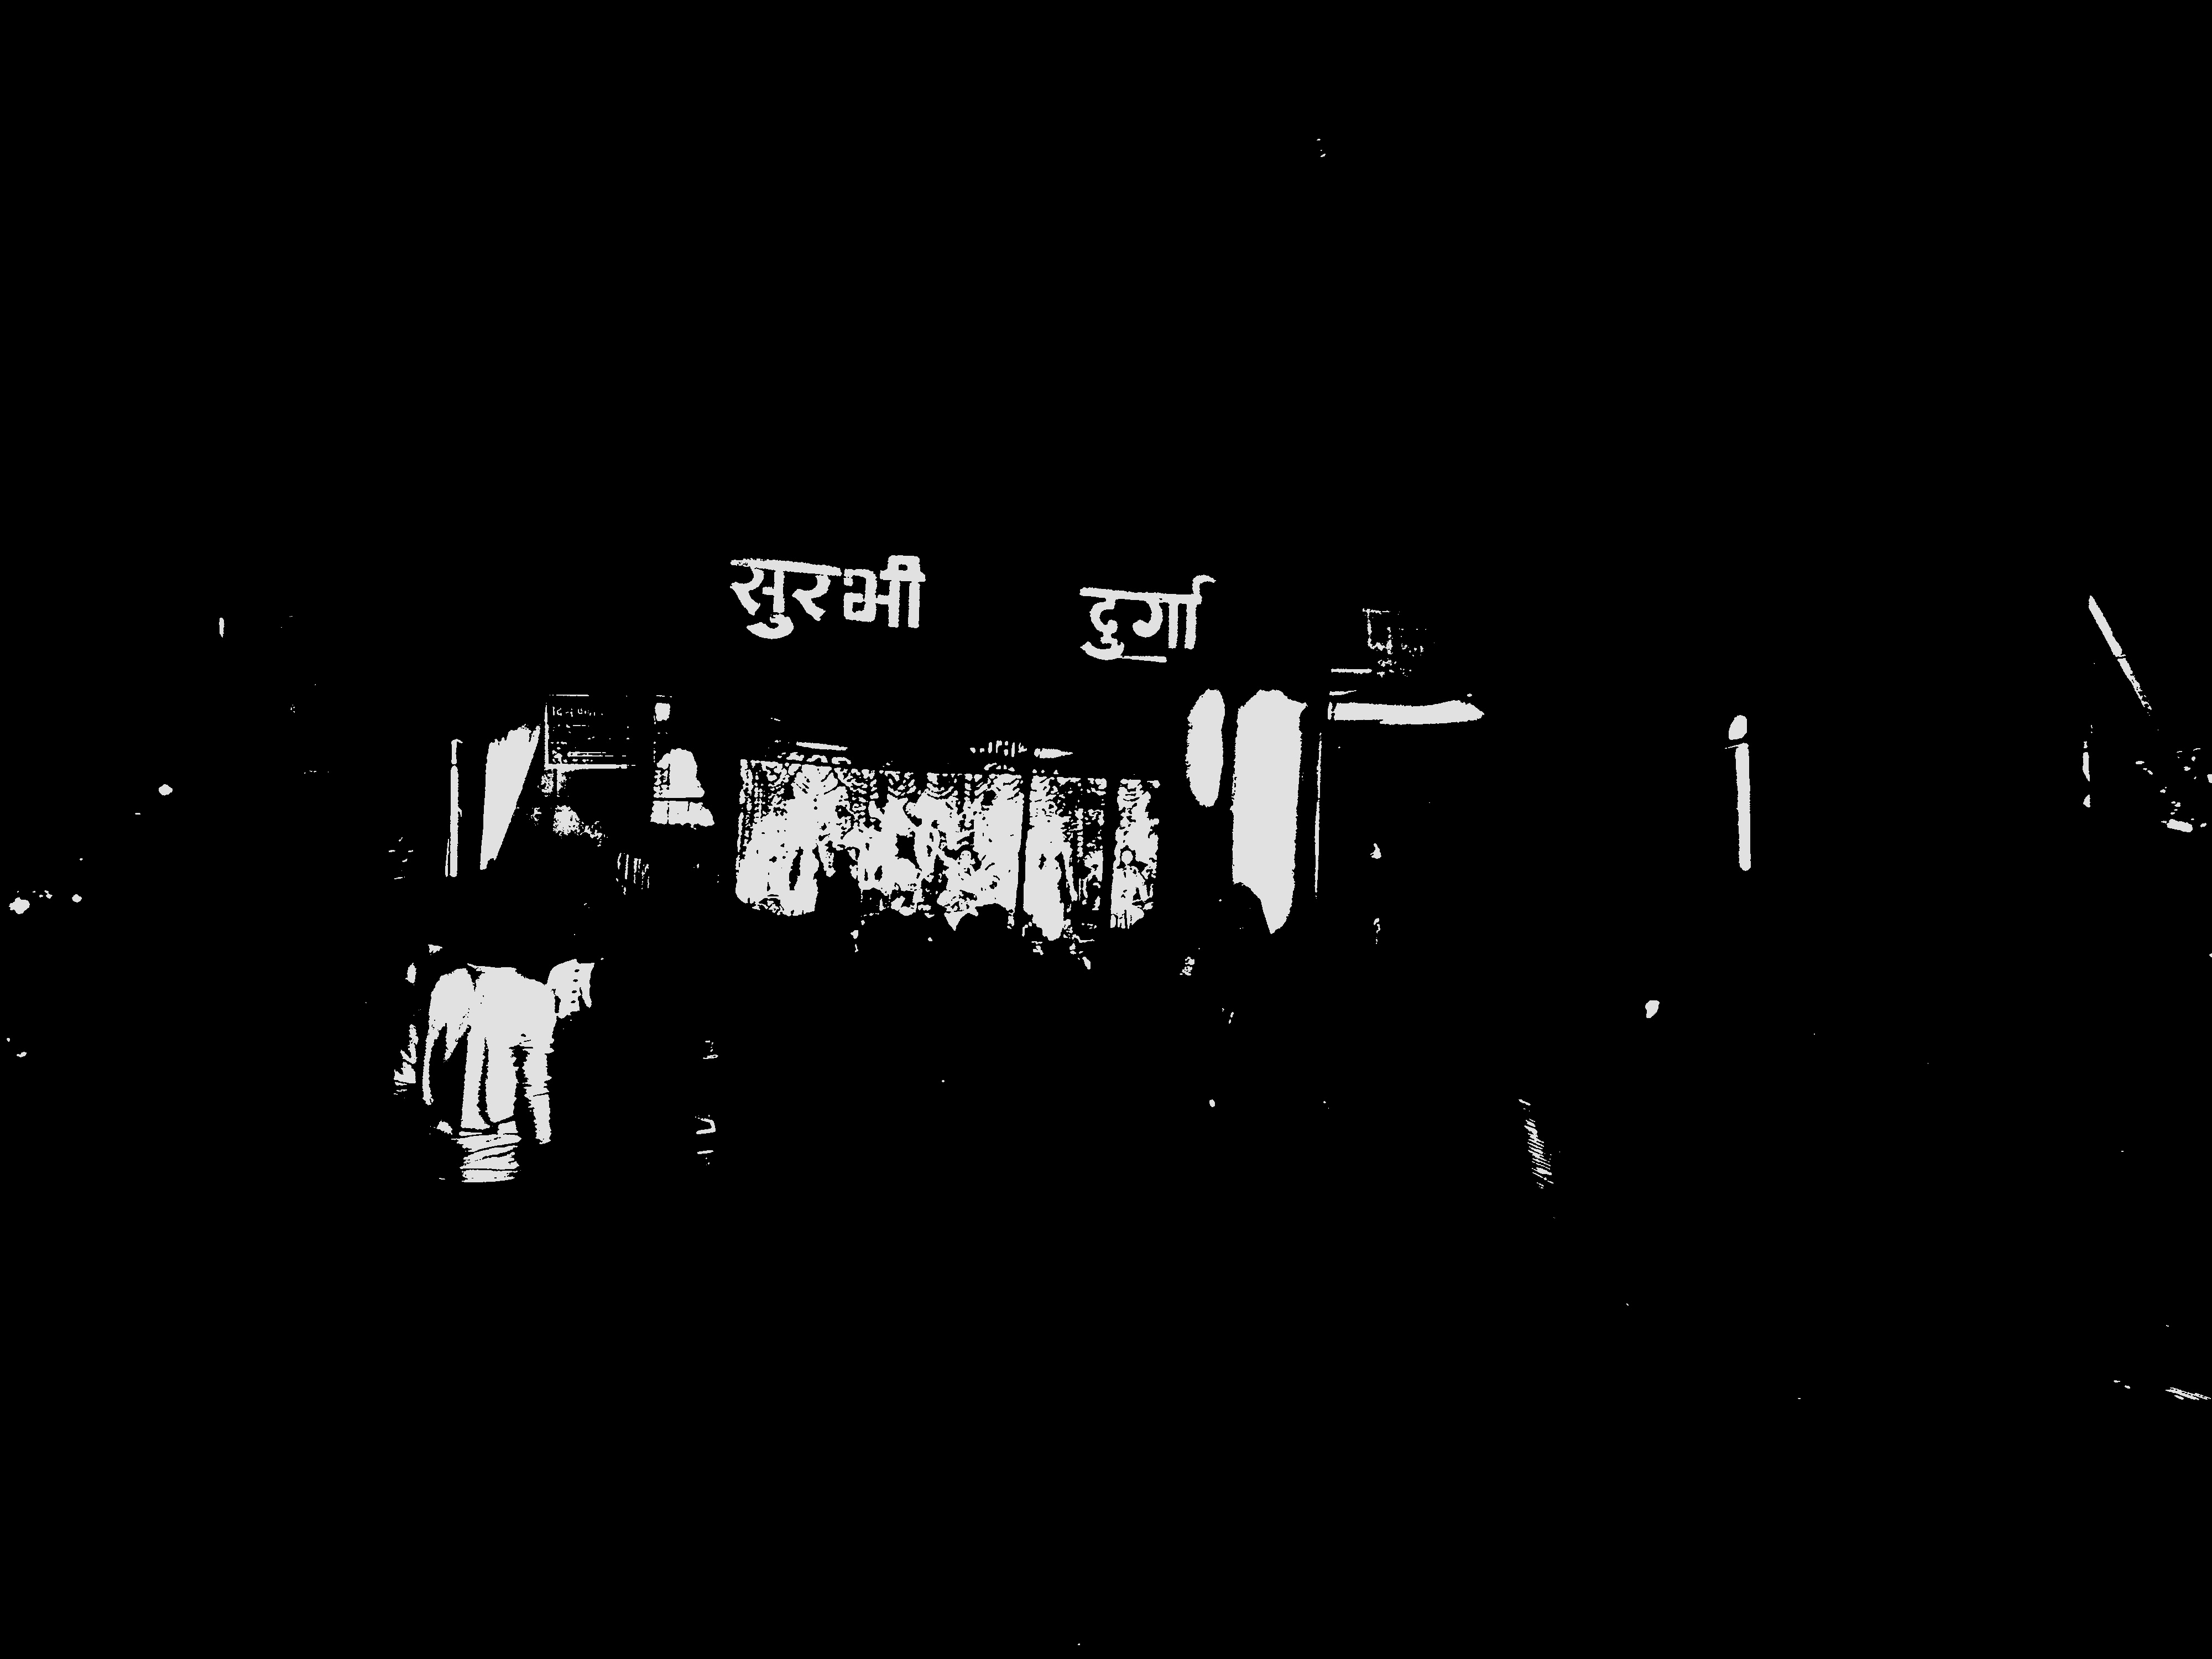text: (726, 554, 1789, 694)
